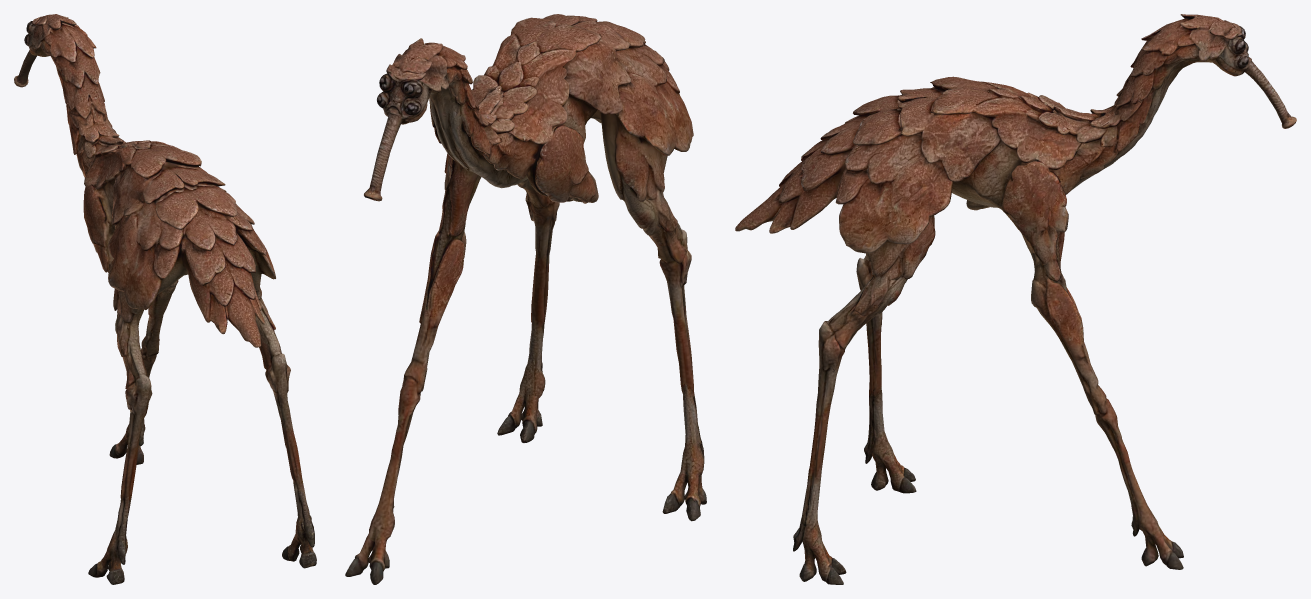
The model's file is alien-stilt.glb.
The picture shows the model from 3 angles, left to right: view 1: azimuth 30°, elevation 25°; view 2: azimuth 150°, elevation 25°; view 3: azimuth 270°, elevation 25°; orthographic projection. The views are drawn at different scales.
Visible parts, largest first — view 1: tripo_node_040a211f-257f-4b4c-9347-d670c466f00e; view 2: tripo_node_040a211f-257f-4b4c-9347-d670c466f00e; view 3: tripo_node_040a211f-257f-4b4c-9347-d670c466f00e.
Boxes of the visible parts, left/top/right/bottom form: tripo_node_040a211f-257f-4b4c-9347-d670c466f00e: left=14, top=14, right=316, bottom=584; tripo_node_040a211f-257f-4b4c-9347-d670c466f00e: left=345, top=14, right=706, bottom=584; tripo_node_040a211f-257f-4b4c-9347-d670c466f00e: left=735, top=14, right=1296, bottom=584.
Size of the model in its own units: 0.4457 by 0.9998 by 0.9852.
Materials: 1 (1 with a texture image).
